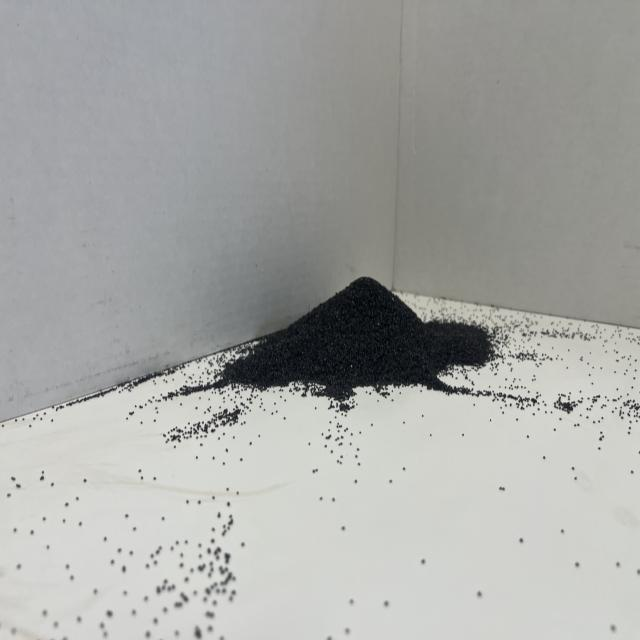Poppy Seeds: (218, 263, 530, 413)
